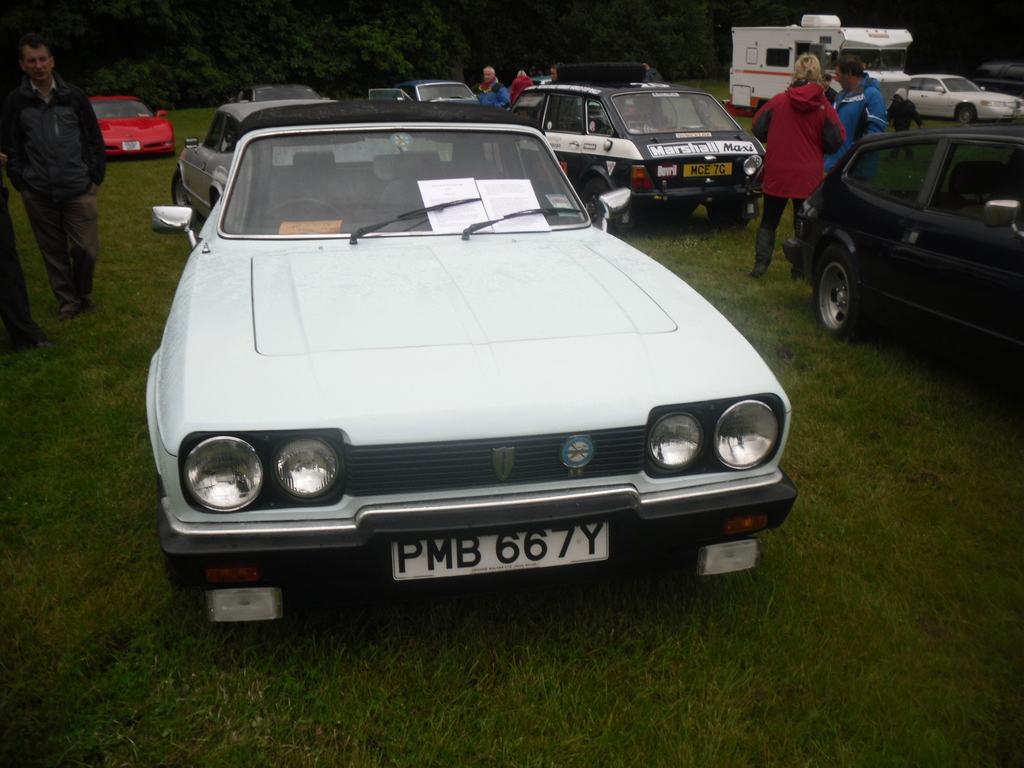Car: (149, 123, 800, 623), (780, 131, 1023, 339), (504, 61, 770, 222), (167, 85, 334, 218), (893, 77, 1023, 120), (87, 96, 175, 156), (365, 83, 479, 103)
